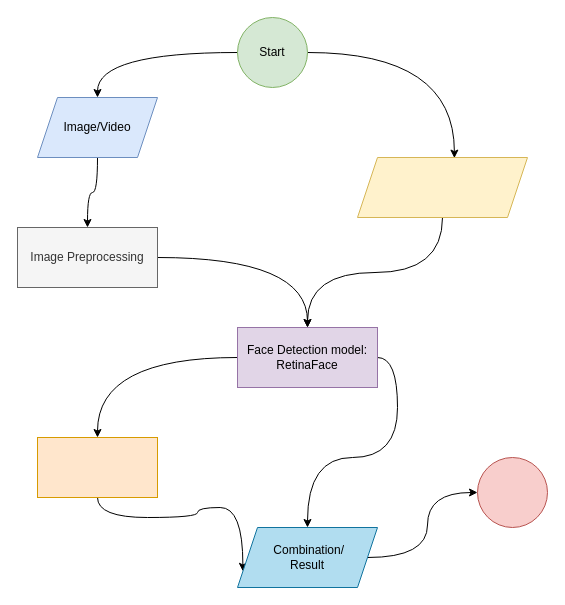
Image size: 565x605. Some labels were removed from this diagram. The box of each missing label's shape, as (x1, y1, x2, y2) in pixels:
Classification model: Xception: (36, 436, 158, 498)
End: (476, 456, 548, 528)
Thermal Camera Image: (356, 156, 528, 218)
